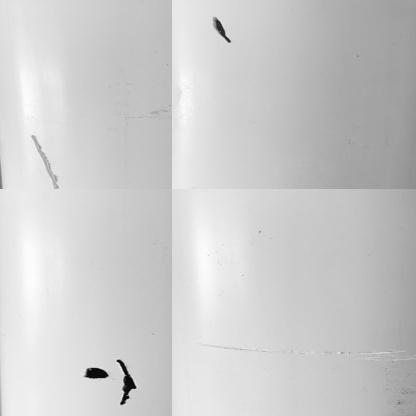kongdong: (114, 360, 137, 406), (206, 13, 236, 47), (82, 364, 107, 381)
sunshang: (28, 133, 66, 189)
